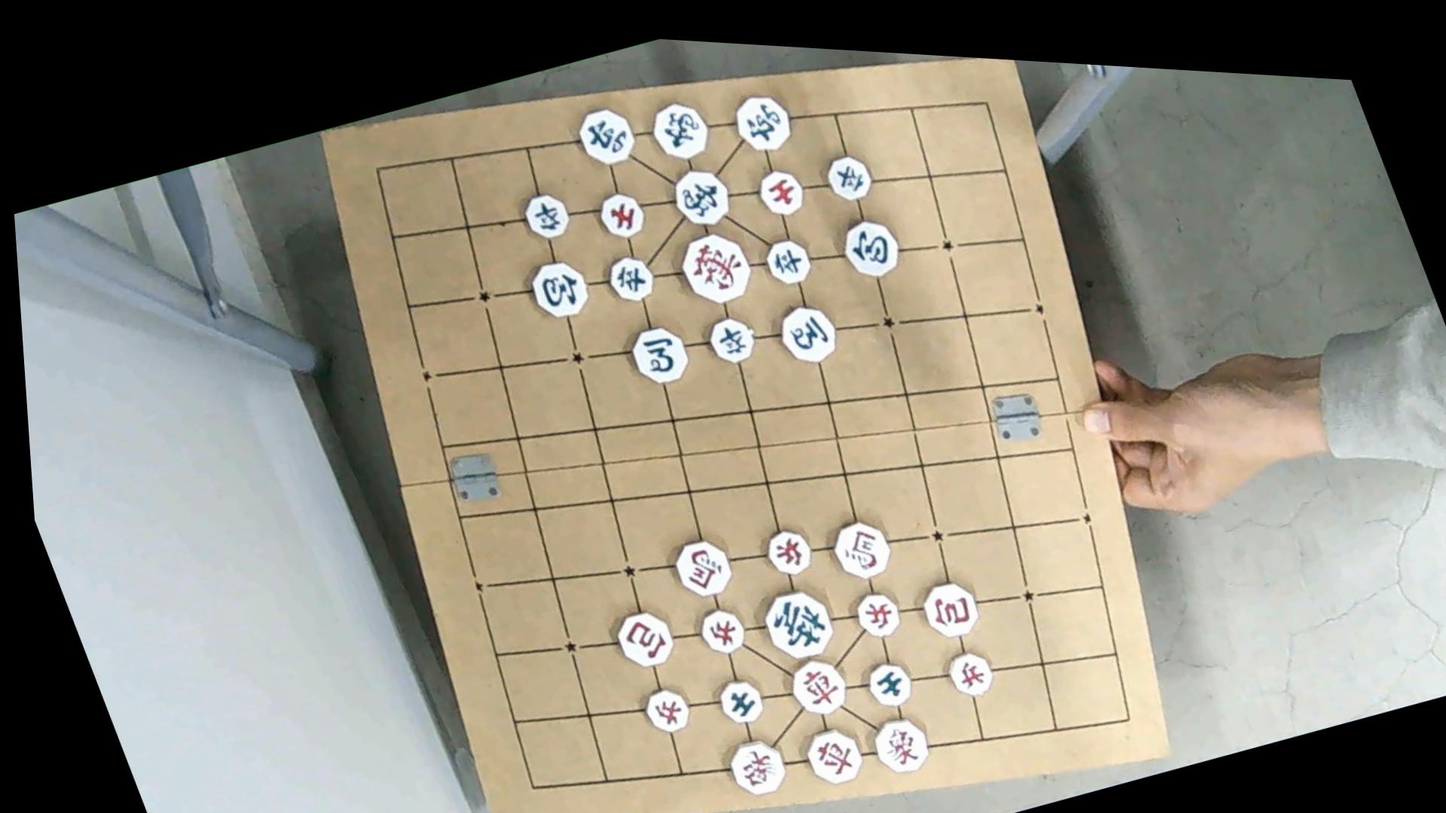cha_green: (572, 102, 644, 171), (725, 87, 795, 156)
cha_red: (785, 653, 857, 720), (801, 725, 871, 790)
jol_green: (701, 312, 761, 370), (758, 235, 817, 291), (819, 152, 877, 208), (519, 187, 578, 242), (602, 252, 659, 307)
jol_red: (847, 585, 910, 645), (938, 645, 1001, 705), (758, 522, 817, 581), (638, 682, 698, 740), (694, 601, 751, 659)
ma_green: (772, 300, 845, 370), (622, 321, 695, 389)
ma_red: (824, 512, 899, 587), (666, 533, 736, 599)
po_green: (830, 209, 910, 287), (521, 257, 594, 325)
po_red: (606, 604, 678, 671), (914, 574, 984, 640)
sa_green: (713, 676, 770, 729), (862, 658, 918, 711)
sa_red: (590, 182, 653, 244), (749, 163, 811, 224)
sang_green: (663, 162, 739, 234), (645, 94, 718, 165)
sang_red: (722, 735, 794, 801), (866, 714, 935, 778)
wang_green: (756, 582, 844, 665)
wang_red: (670, 225, 760, 315)
